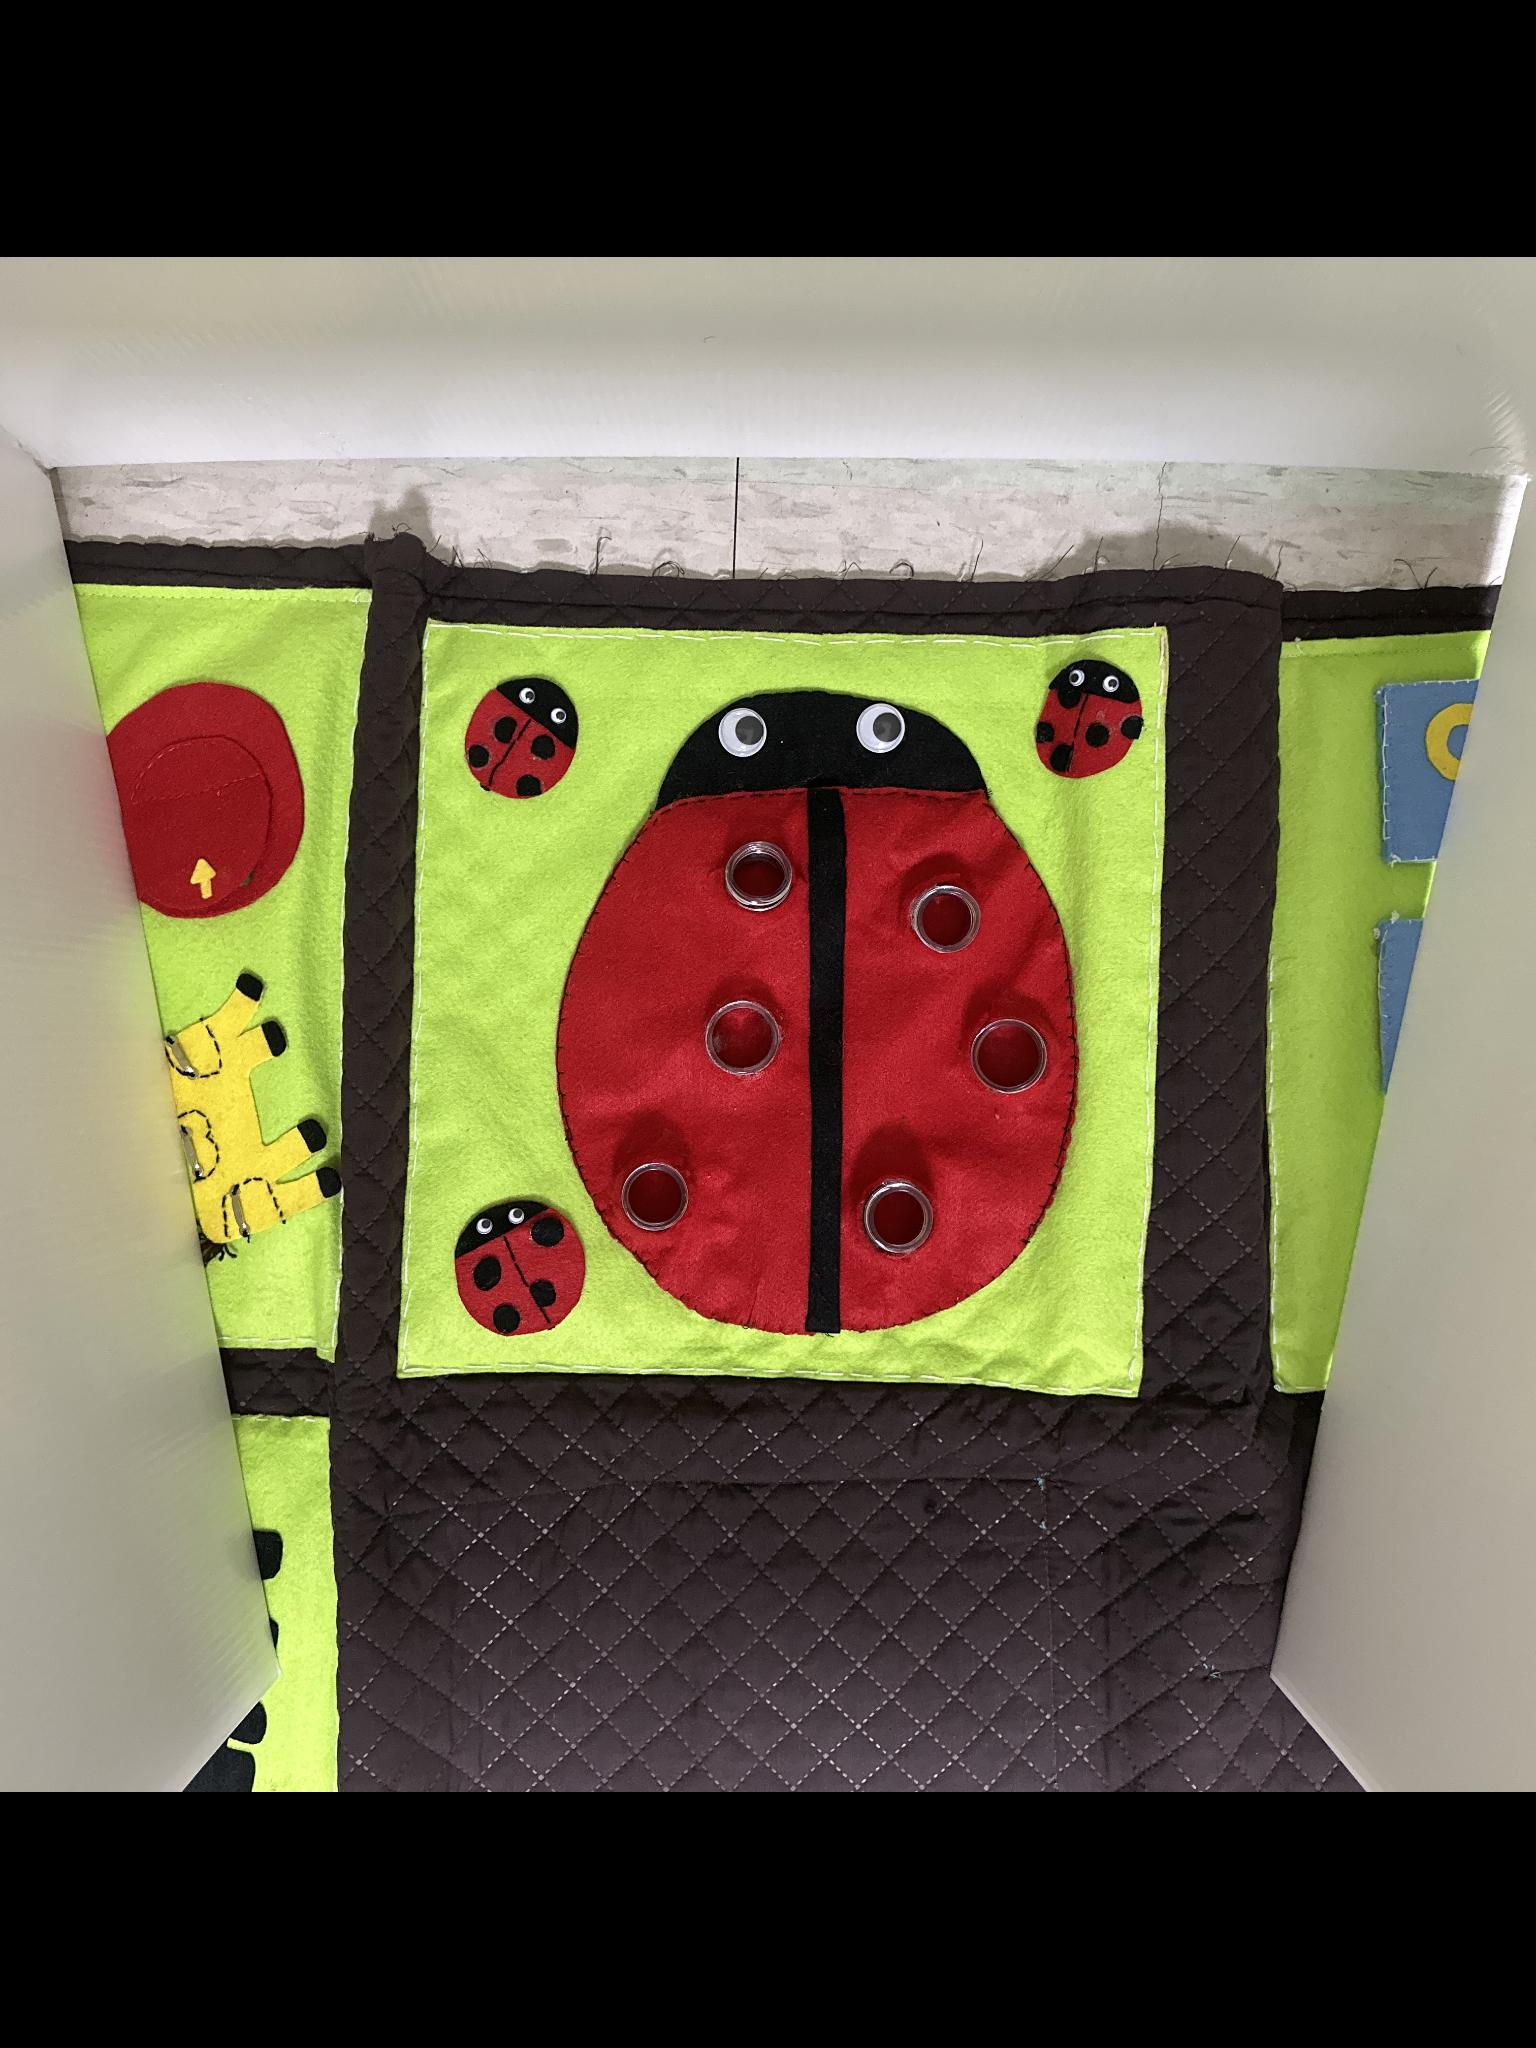hole: (899, 876, 992, 963), (858, 1180, 941, 1268), (975, 1013, 1054, 1095), (710, 845, 794, 921), (618, 1159, 700, 1234), (700, 998, 773, 1080)
ladybug_case: (549, 698, 1083, 1340)
